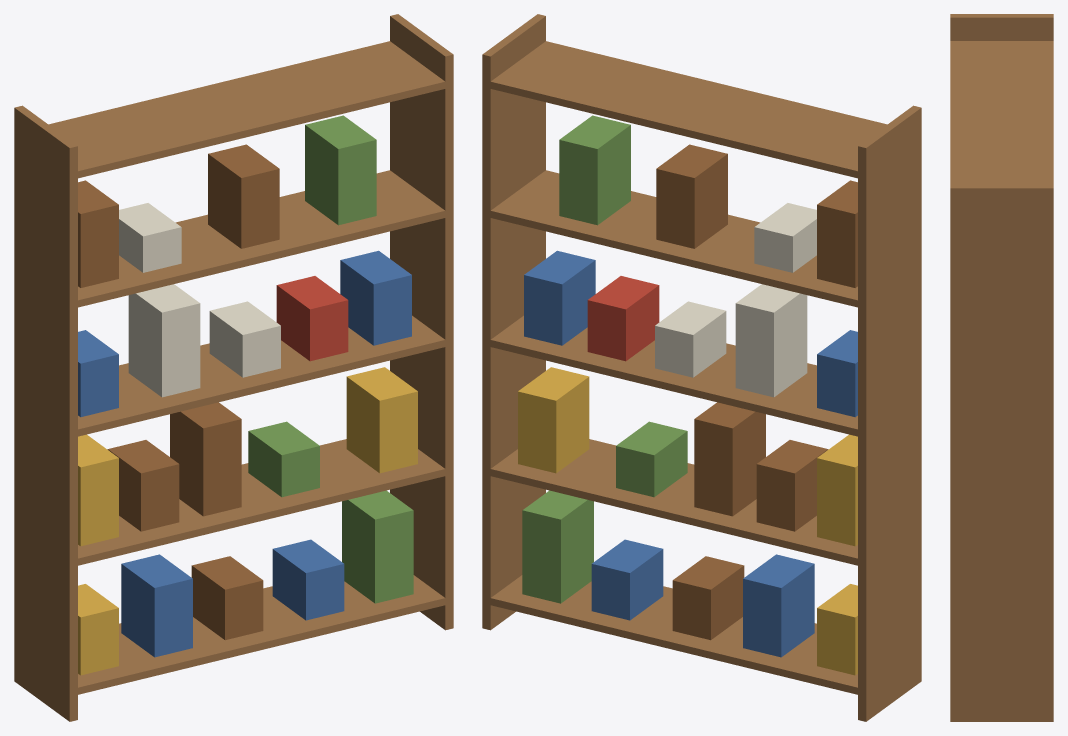
Rendered from shelf.glb.
The picture shows the model from 3 angles, left to right: view 1: azimuth 30°, elevation 25°; view 2: azimuth 150°, elevation 25°; view 3: azimuth 270°, elevation 25°; orthographic projection. The views are drawn at different scales.
Visible parts, largest first — view 1: shelf; view 2: shelf; view 3: shelf.
Part boxes in pixels (left/top/right/bottom): shelf: left=14, top=14, right=453, bottom=721; shelf: left=482, top=14, right=921, bottom=721; shelf: left=950, top=14, right=1053, bottom=721.
Size of the model in its own units: 1.4 by 2 by 0.35.
